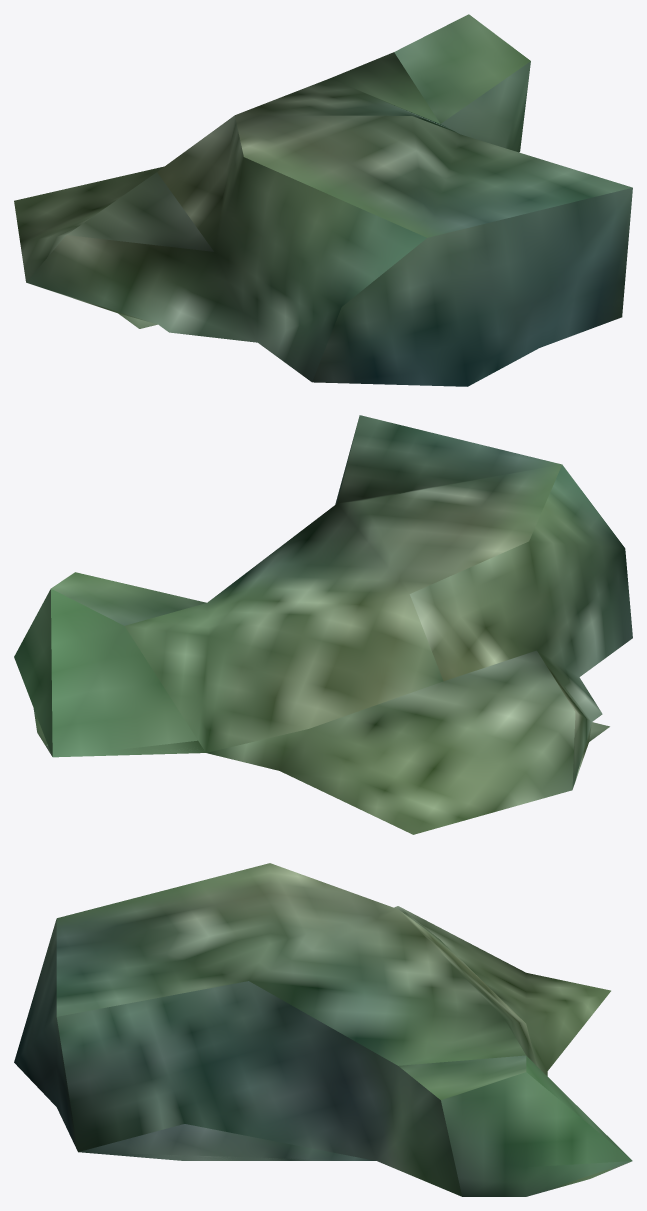
3 views of the same model, one above another, from view 1: azimuth 30°, elevation 25°; view 2: azimuth 150°, elevation 25°; view 3: azimuth 270°, elevation 25° (orthographic).
Parts seen in each view (by area): view 1: 30436272704361714715_0; view 2: 30436272704361714715_0; view 3: 30436272704361714715_0.
Part boxes in pixels (left/top/right/bottom): 30436272704361714715_0: left=14, top=14, right=632, bottom=386; 30436272704361714715_0: left=14, top=415, right=632, bottom=834; 30436272704361714715_0: left=14, top=863, right=632, bottom=1196.
Bounding box in the file's own units: 4.3 × 1.23 × 4.47.
Materials: 1 (1 with a texture image).
